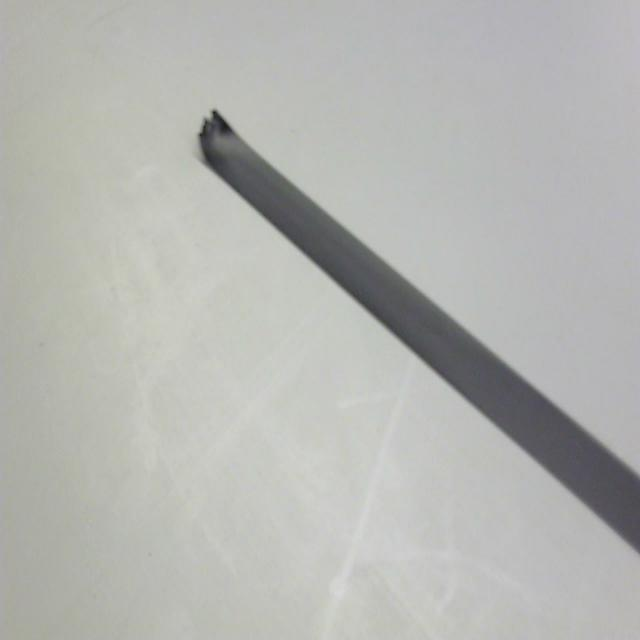tape: (182, 85, 640, 621)
